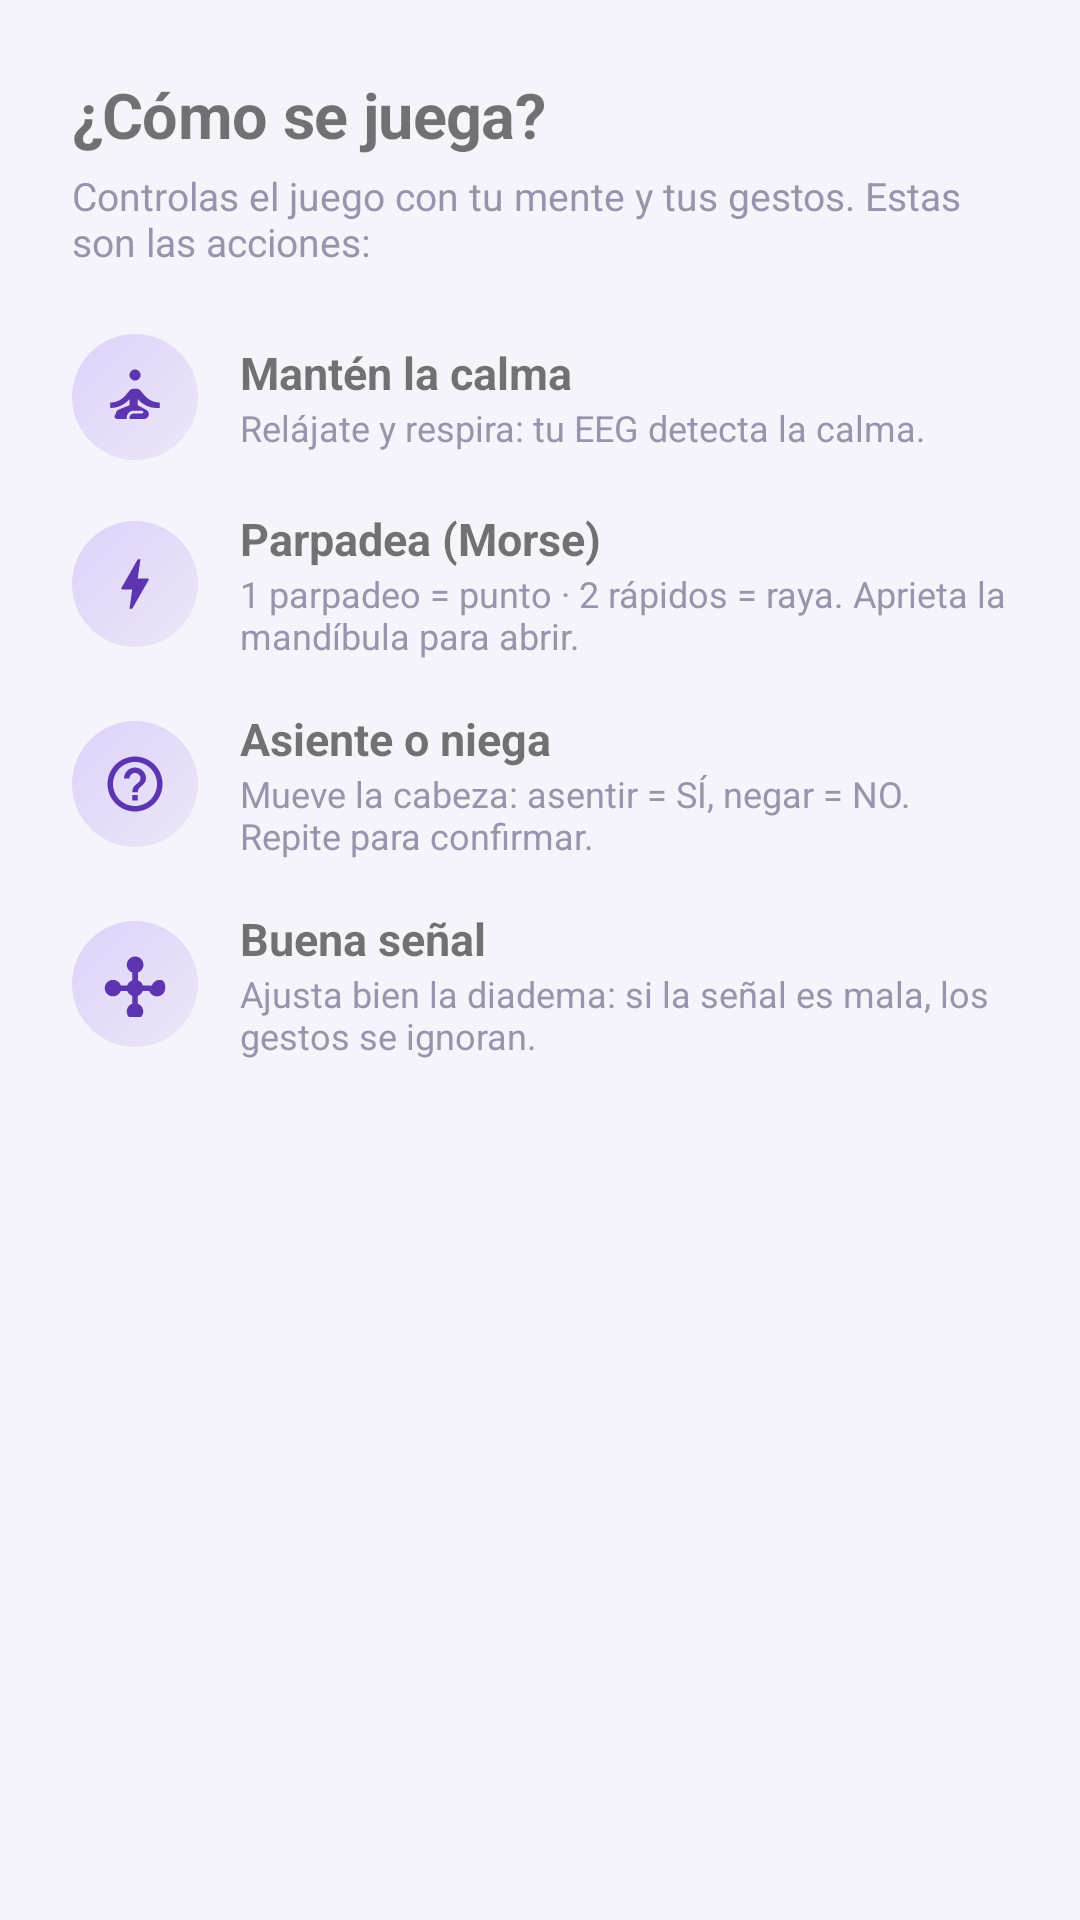

Where to tap for icons on this 1080×1920 app screen, as (x=x, y=y):
mod blink: (x=122, y=571)
mod calm: (x=122, y=384)
mod yesno: (x=122, y=771)
